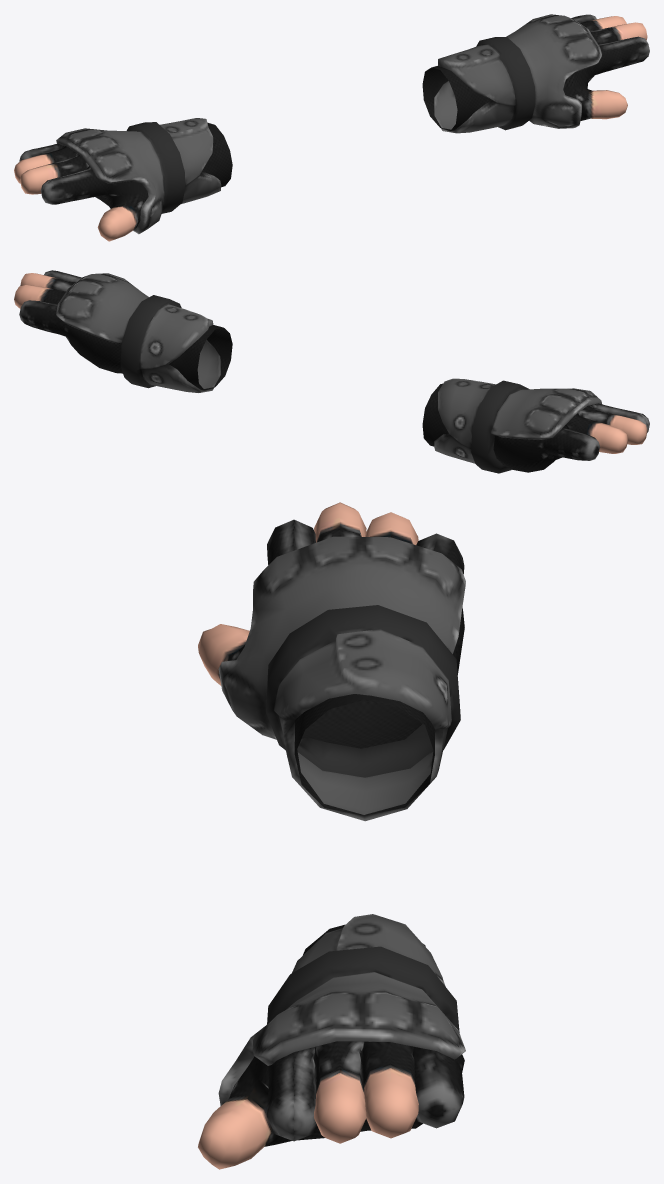
3 views of the same model, one above another, from view 1: azimuth 30°, elevation 25°; view 2: azimuth 150°, elevation 25°; view 3: azimuth 270°, elevation 25° (orthographic). The views are drawn at different scales.
Visible parts, largest first — view 1: model_0_submesh_0; view 2: model_0_submesh_0; view 3: model_0_submesh_0.
Boxes of the visible parts, x1,y1,x2,y2 form: model_0_submesh_0: (14, 14, 649, 241); model_0_submesh_0: (14, 270, 649, 473); model_0_submesh_0: (198, 502, 465, 1169).
Bounding box in the file's own units: 1.29 × 0.1724 × 0.2405.
